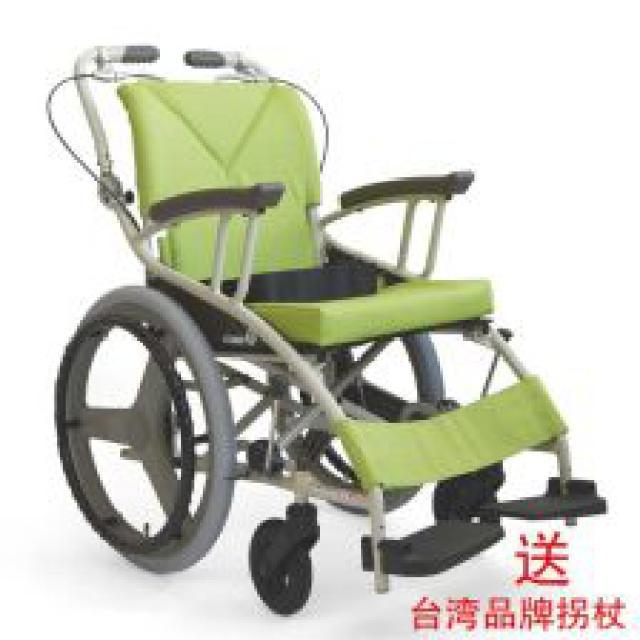wheelchair: (37, 34, 612, 609)
